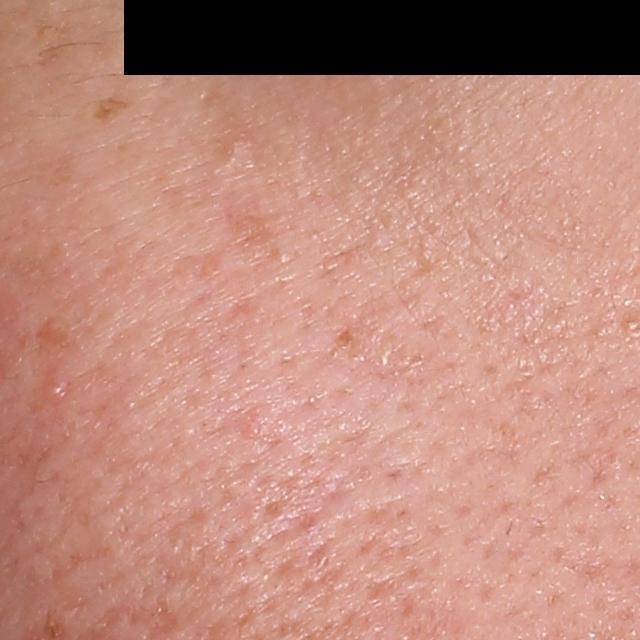comedo: (40, 375, 72, 398)
melasma: (90, 94, 141, 129)
